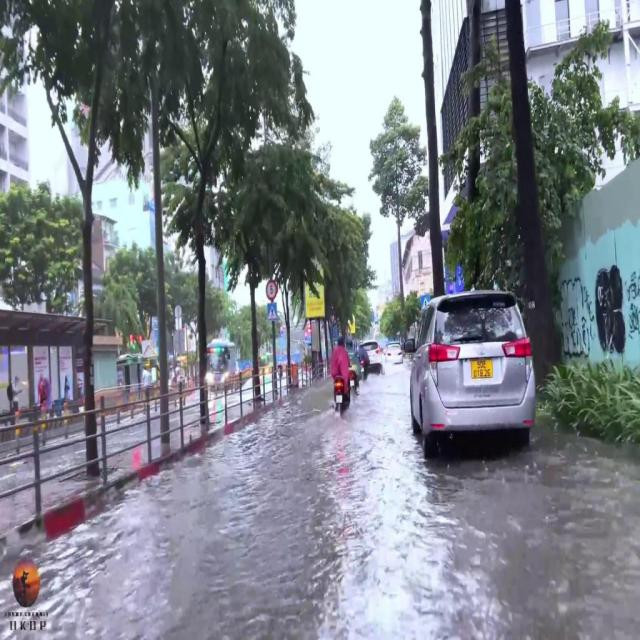duong_nguoi_di_bo_sang_ngang: (419, 294, 430, 310), (267, 303, 277, 320)
khac: (266, 280, 277, 300)
